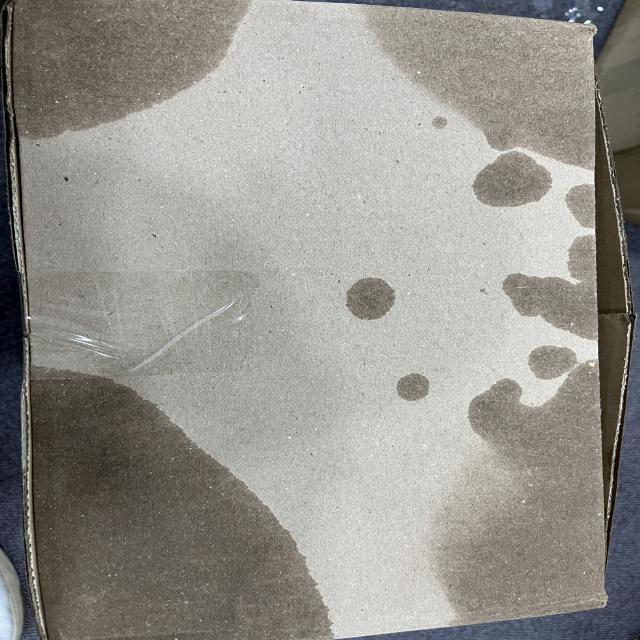wet: (20, 363, 334, 639), (365, 379, 609, 615), (364, 0, 609, 224), (8, 3, 252, 154)
